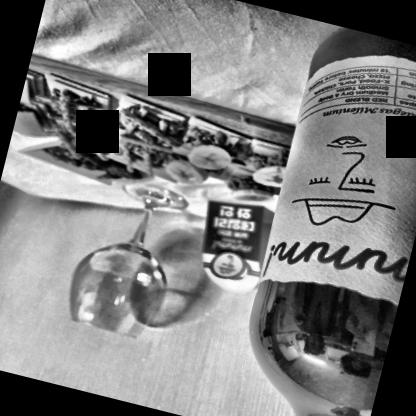umm: (251, 31, 415, 322)
